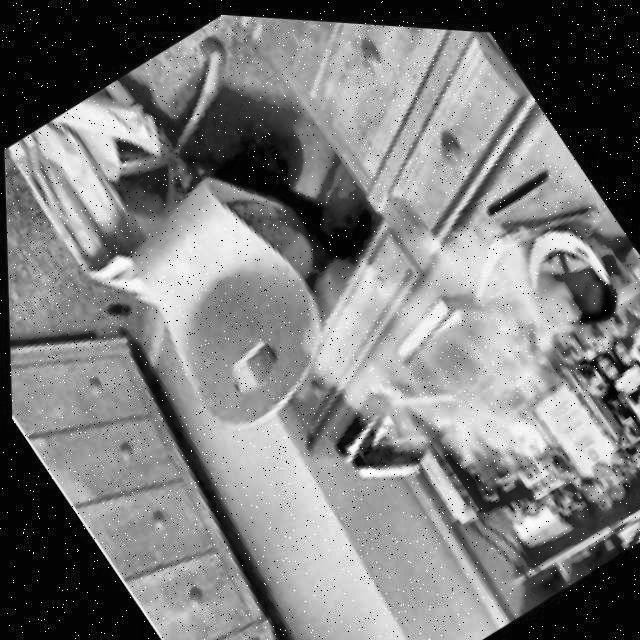Smoke: (260, 151, 640, 544)
